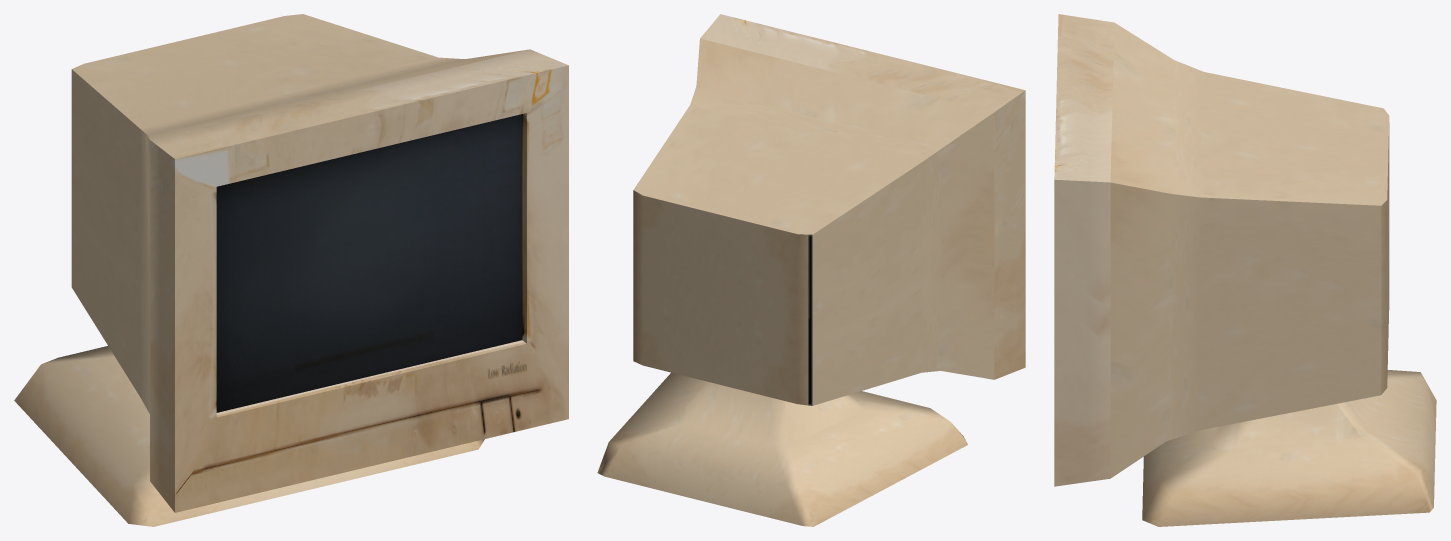
Rendered from pantalla_pc1.fbx.
3 views of the same model, side by side, from view 1: azimuth 30°, elevation 25°; view 2: azimuth 150°, elevation 25°; view 3: azimuth 270°, elevation 25° (orthographic). The views are drawn at different scales.
Visible parts, largest first — view 1: MONITOR; view 2: MONITOR; view 3: MONITOR.
Part boxes in pixels (x1,y1,x2,y2): MONITOR: (14,14,568,526); MONITOR: (597,14,1025,526); MONITOR: (1054,14,1436,526).
Size of the model in its own units: 27.25 by 27.45 by 26.55.
